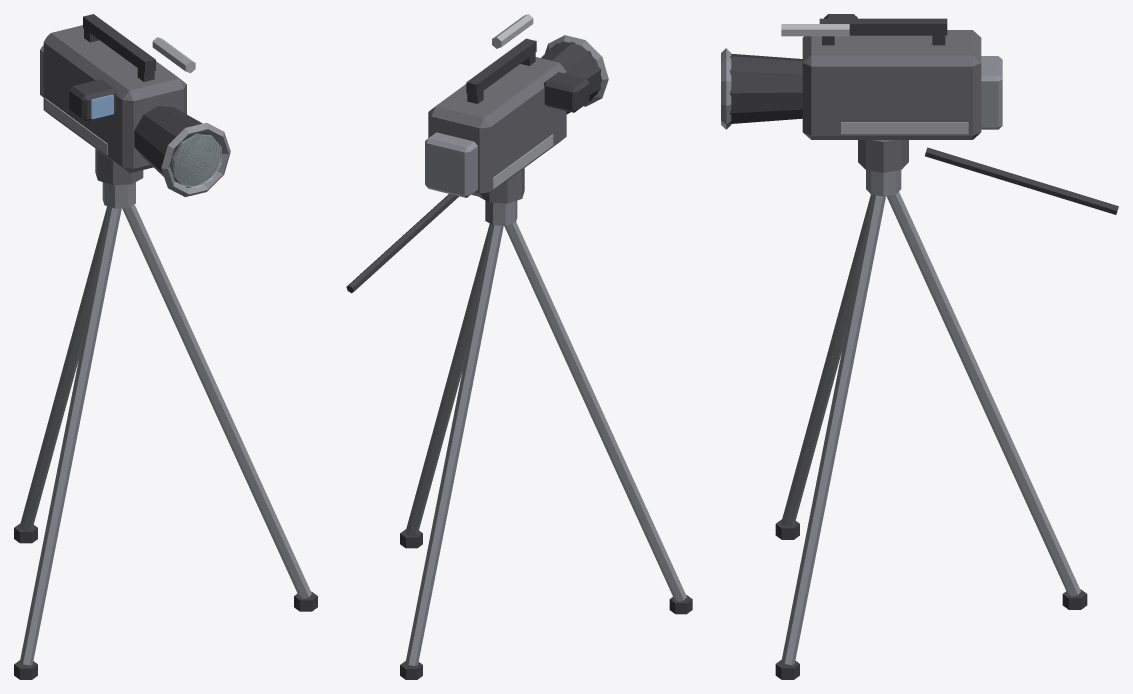
Rendered from prop_tv_camera_01.glb.
3 views of the same model, side by side, from view 1: azimuth 30°, elevation 25°; view 2: azimuth 150°, elevation 25°; view 3: azimuth 270°, elevation 25° (orthographic). The views are drawn at different scales.
Visible parts, largest first — view 1: prop_tv_camera_01_body; view 2: prop_tv_camera_01_body; view 3: prop_tv_camera_01_body.
Boxes of the visible parts, x1,y1,x2,y2 form: prop_tv_camera_01_body: (14, 14, 317, 679); prop_tv_camera_01_body: (346, 14, 692, 679); prop_tv_camera_01_body: (721, 14, 1118, 679).
Bounding box in the file's own units: 0.8293 × 1.54 × 0.9353.
